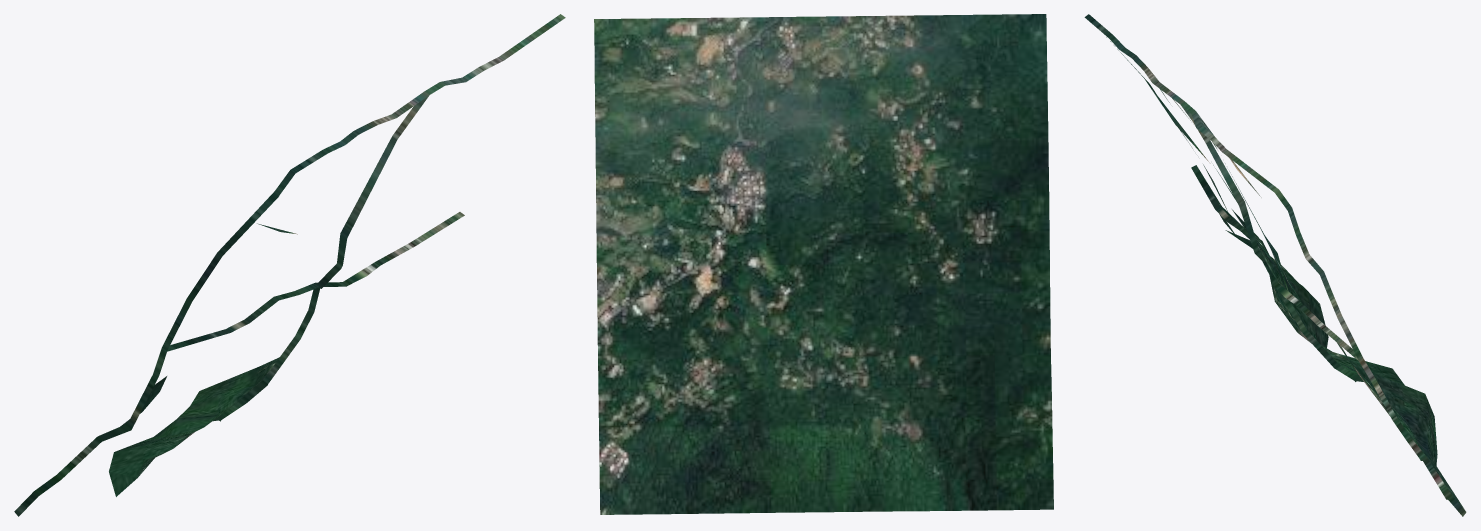
3 views of the same model, side by side, from view 1: azimuth 30°, elevation 25°; view 2: azimuth 150°, elevation 25°; view 3: azimuth 270°, elevation 25° (orthographic). The views are drawn at different scales.
Bounding box in the file's own units: 2745 × 2259 × 2004.
Materials: 1 (1 with a texture image).
